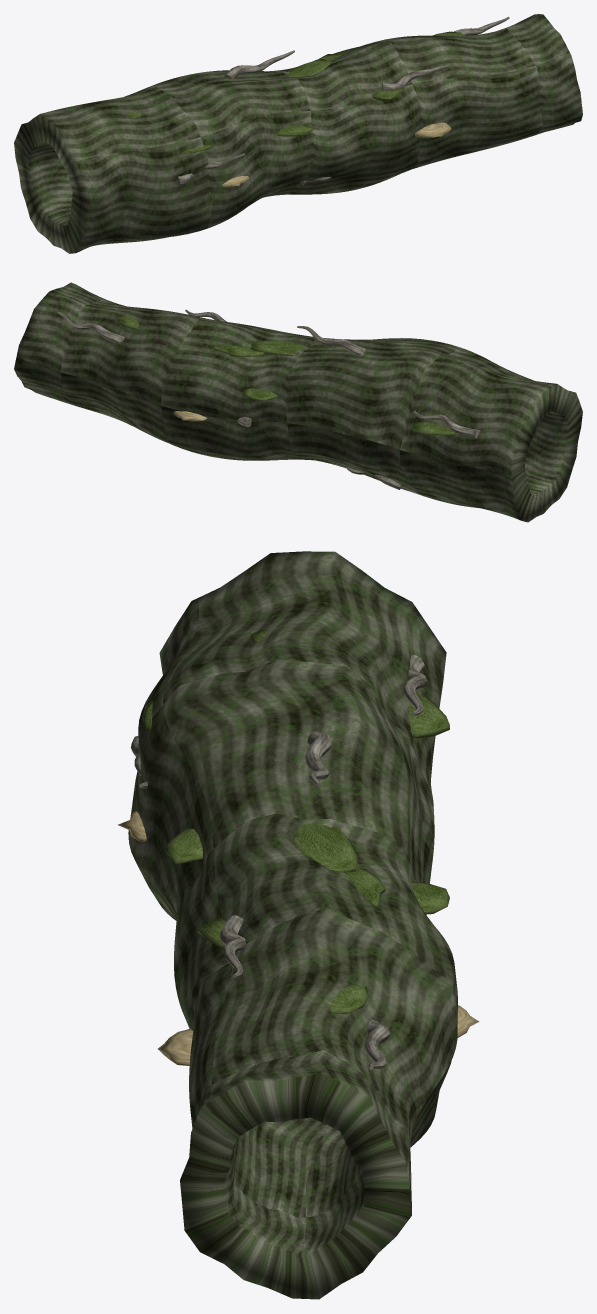
Rendered from PZ_FallenWood_02_HollowRot_Log_2p8m.glb.
3 renders of one model, top to bottom at view 1: azimuth 30°, elevation 25°; view 2: azimuth 150°, elevation 25°; view 3: azimuth 270°, elevation 25°, orthographic. The views are drawn at different scales.
Parts seen in each view (by area): view 1: 02_HollowRot_Log_2p8m_HollowAnnularTrunk_MESH, 02_HollowRot_Log_2p8m_ExposedFibre_3_MESH, 02_HollowRot_Log_2p8m_ExposedFibre_6_MESH, 02_HollowRot_Log_2p8m_MossClump_05_MESH, 02_HollowRot_Log_2p8m_BracketFungus_00_MESH, 02_HollowRot_Log_2p8m_MossClump_00_MESH; view 2: 02_HollowRot_Log_2p8m_HollowAnnularTrunk_MESH, 02_HollowRot_Log_2p8m_MossClump_05_MESH, 02_HollowRot_Log_2p8m_ExposedFibre_8_MESH, 02_HollowRot_Log_2p8m_ExposedFibre_3_MESH, 02_HollowRot_Log_2p8m_ExposedFibre_0_MESH, 02_HollowRot_Log_2p8m_MossClump_04_MESH, 02_HollowRot_Log_2p8m_MossClump_06_MESH; view 3: 02_HollowRot_Log_2p8m_HollowAnnularTrunk_MESH, 02_HollowRot_Log_2p8m_MossClump_05_MESH, 02_HollowRot_Log_2p8m_MossClump_04_MESH, 02_HollowRot_Log_2p8m_MossClump_00_MESH, 02_HollowRot_Log_2p8m_ExposedFibre_3_MESH, 02_HollowRot_Log_2p8m_ExposedFibre_6_MESH.
Boxes of the visible parts, bbox=[...] form: 02_HollowRot_Log_2p8m_HollowAnnularTrunk_MESH: bbox=[14, 14, 582, 253]; 02_HollowRot_Log_2p8m_ExposedFibre_3_MESH: bbox=[224, 50, 294, 79]; 02_HollowRot_Log_2p8m_ExposedFibre_6_MESH: bbox=[382, 65, 449, 90]; 02_HollowRot_Log_2p8m_MossClump_05_MESH: bbox=[286, 59, 331, 76]; 02_HollowRot_Log_2p8m_BracketFungus_00_MESH: bbox=[414, 122, 451, 137]; 02_HollowRot_Log_2p8m_MossClump_00_MESH: bbox=[277, 124, 314, 136]; 02_HollowRot_Log_2p8m_HollowAnnularTrunk_MESH: bbox=[14, 282, 582, 522]; 02_HollowRot_Log_2p8m_MossClump_05_MESH: bbox=[251, 340, 305, 355]; 02_HollowRot_Log_2p8m_ExposedFibre_8_MESH: bbox=[57, 312, 124, 342]; 02_HollowRot_Log_2p8m_ExposedFibre_3_MESH: bbox=[297, 326, 365, 354]; 02_HollowRot_Log_2p8m_ExposedFibre_0_MESH: bbox=[413, 410, 480, 438]; 02_HollowRot_Log_2p8m_MossClump_04_MESH: bbox=[413, 422, 454, 435]; 02_HollowRot_Log_2p8m_MossClump_06_MESH: bbox=[243, 388, 278, 400]; 02_HollowRot_Log_2p8m_HollowAnnularTrunk_MESH: bbox=[128, 551, 457, 1299]; 02_HollowRot_Log_2p8m_MossClump_05_MESH: bbox=[294, 823, 357, 872]; 02_HollowRot_Log_2p8m_MossClump_04_MESH: bbox=[408, 692, 449, 738]; 02_HollowRot_Log_2p8m_MossClump_00_MESH: bbox=[165, 828, 202, 864]; 02_HollowRot_Log_2p8m_ExposedFibre_3_MESH: bbox=[305, 731, 332, 786]; 02_HollowRot_Log_2p8m_ExposedFibre_6_MESH: bbox=[220, 915, 245, 978].
Size of the model in its own units: 2.86 by 0.7624 by 0.8804.
Materials: 4 (4 with a texture image).
